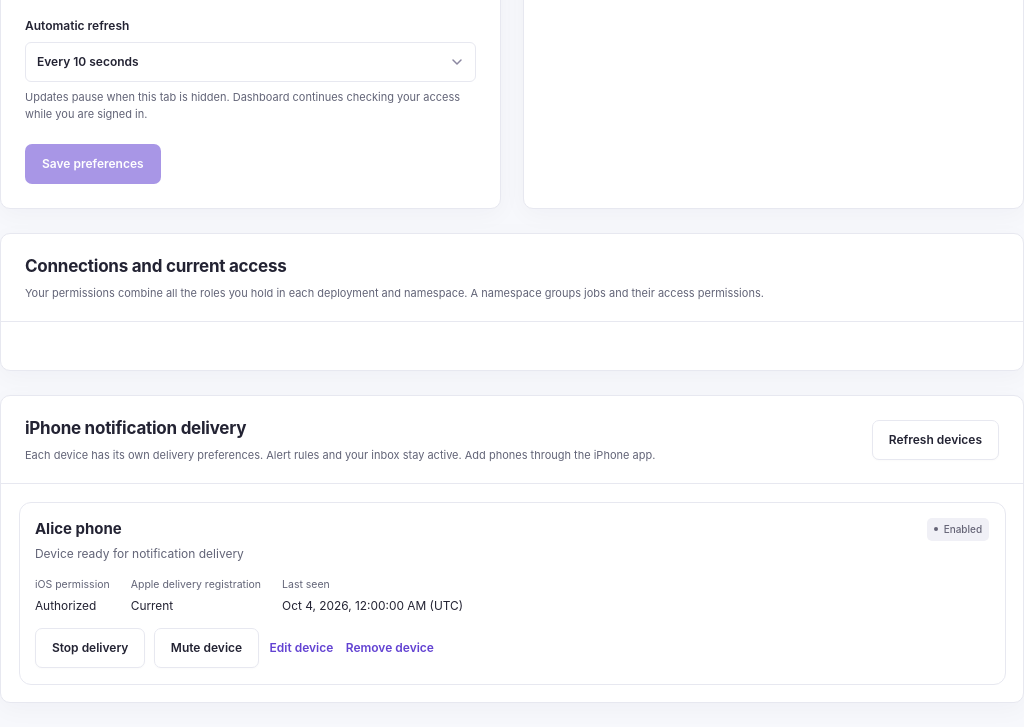
Test: edits labels and remote preferences with exact wide CAS and browser CSRF
(page scrolled)
Expected: the element "Alice phone" is shown, [18,502,1006,685]
Click the button "Edit device": (301, 648) [268,628,335,668]
(page scrolled)
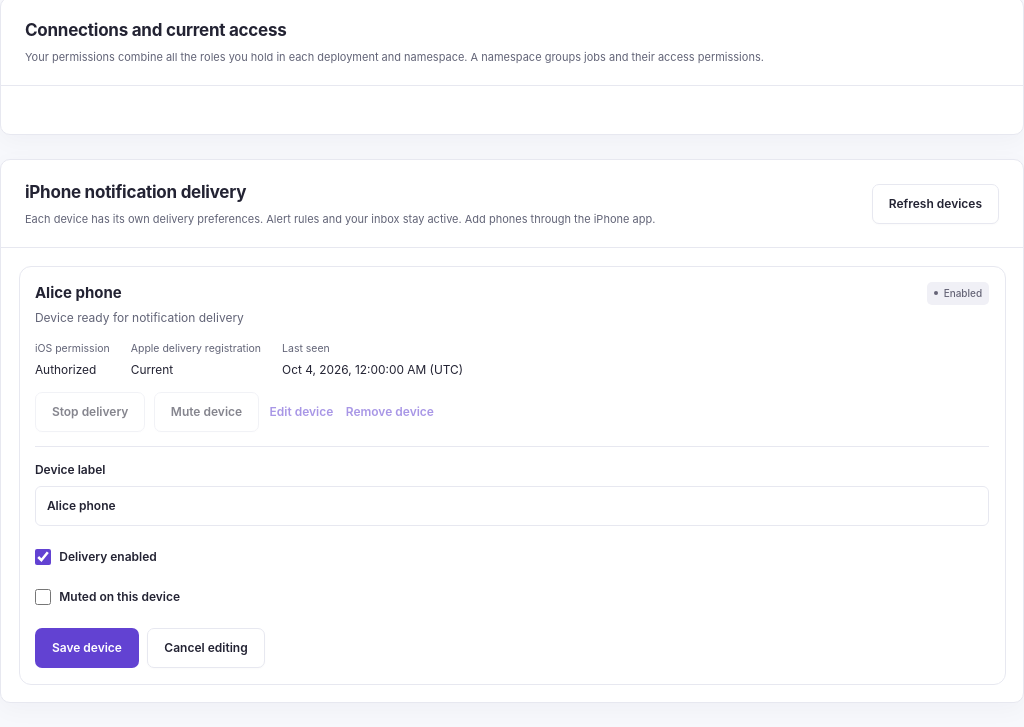
Replace the text in the field labelled "Device label" with "Travel phone": (512, 506) [35,486,989,526]
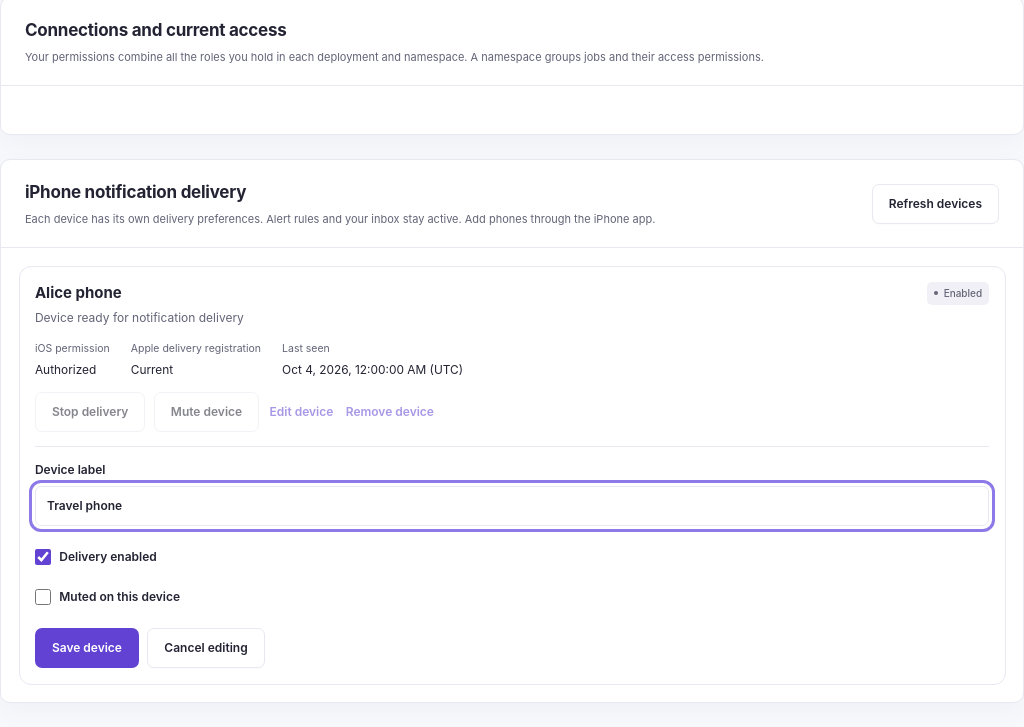
Click the checkbox labelled "Muted on this device": (43, 597) [35,589,51,605]
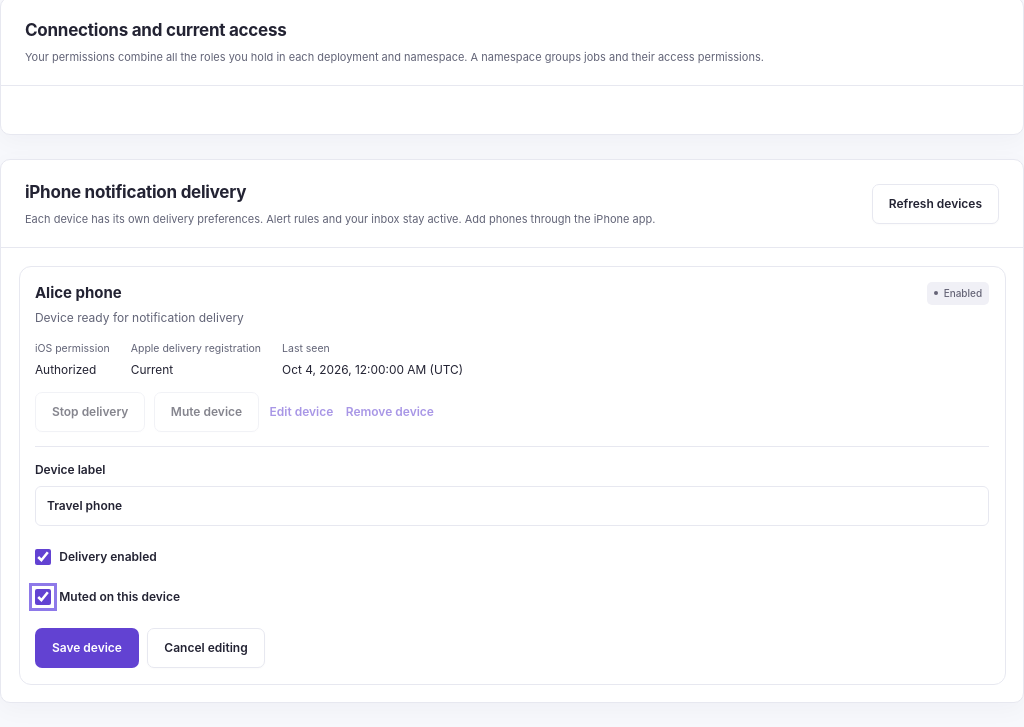
Click the button "Save device": (87, 648) [35,628,139,668]
(page scrolled)
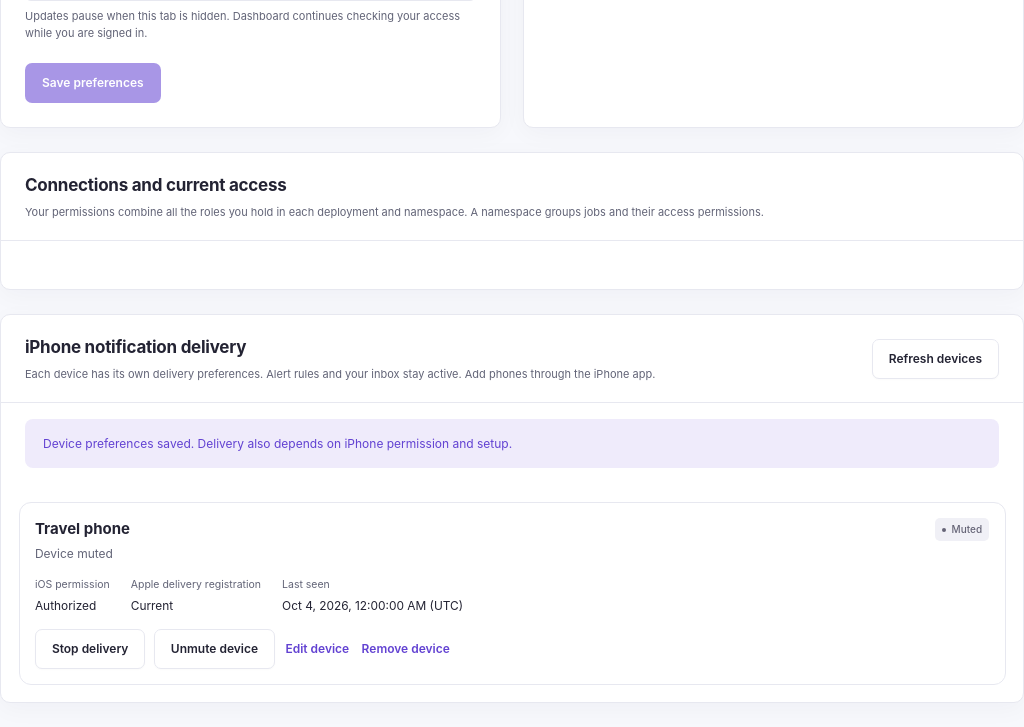
Now the element "Travel phone" is shown, box [18,502,1006,685]
